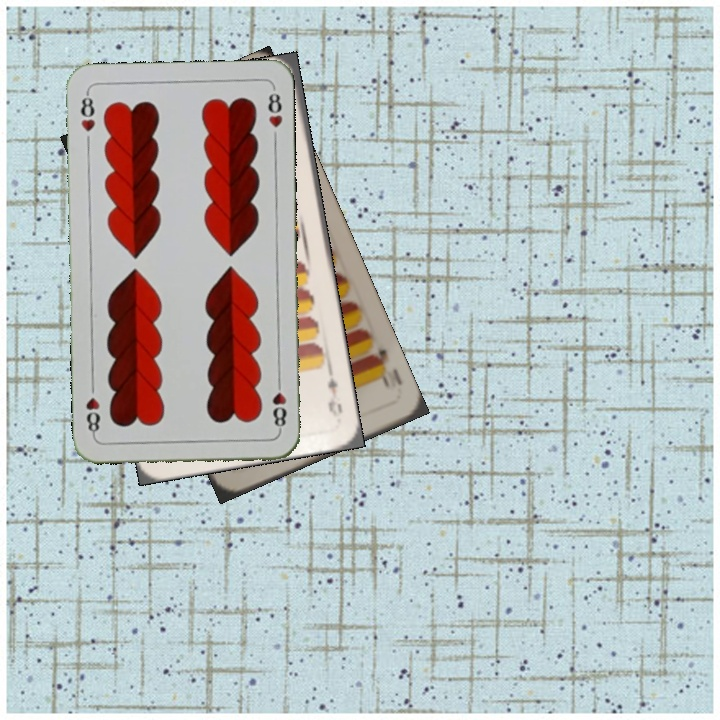E10: (366, 344, 392, 391)
E9: (323, 365, 345, 420)
H8: (268, 375, 290, 434), (77, 88, 98, 134)
